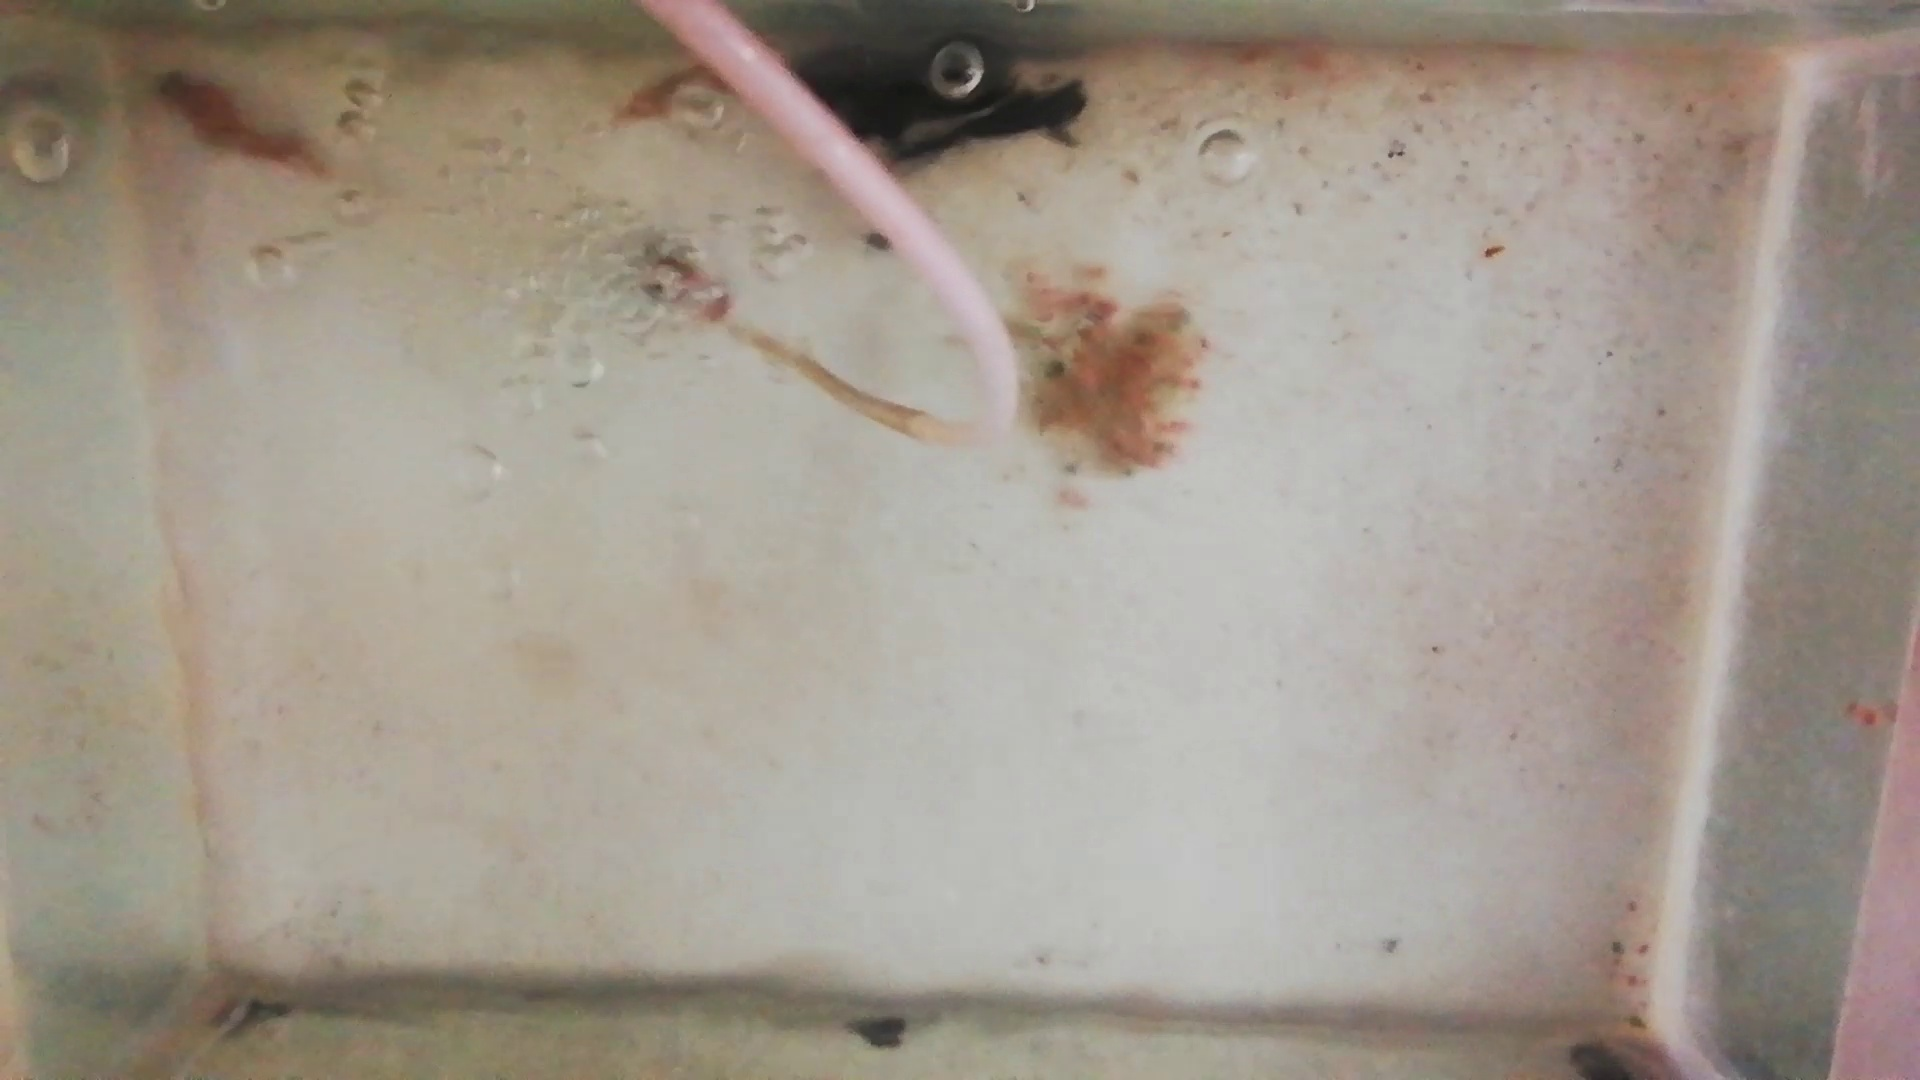fish: (146, 69, 320, 171), (620, 65, 732, 124)
